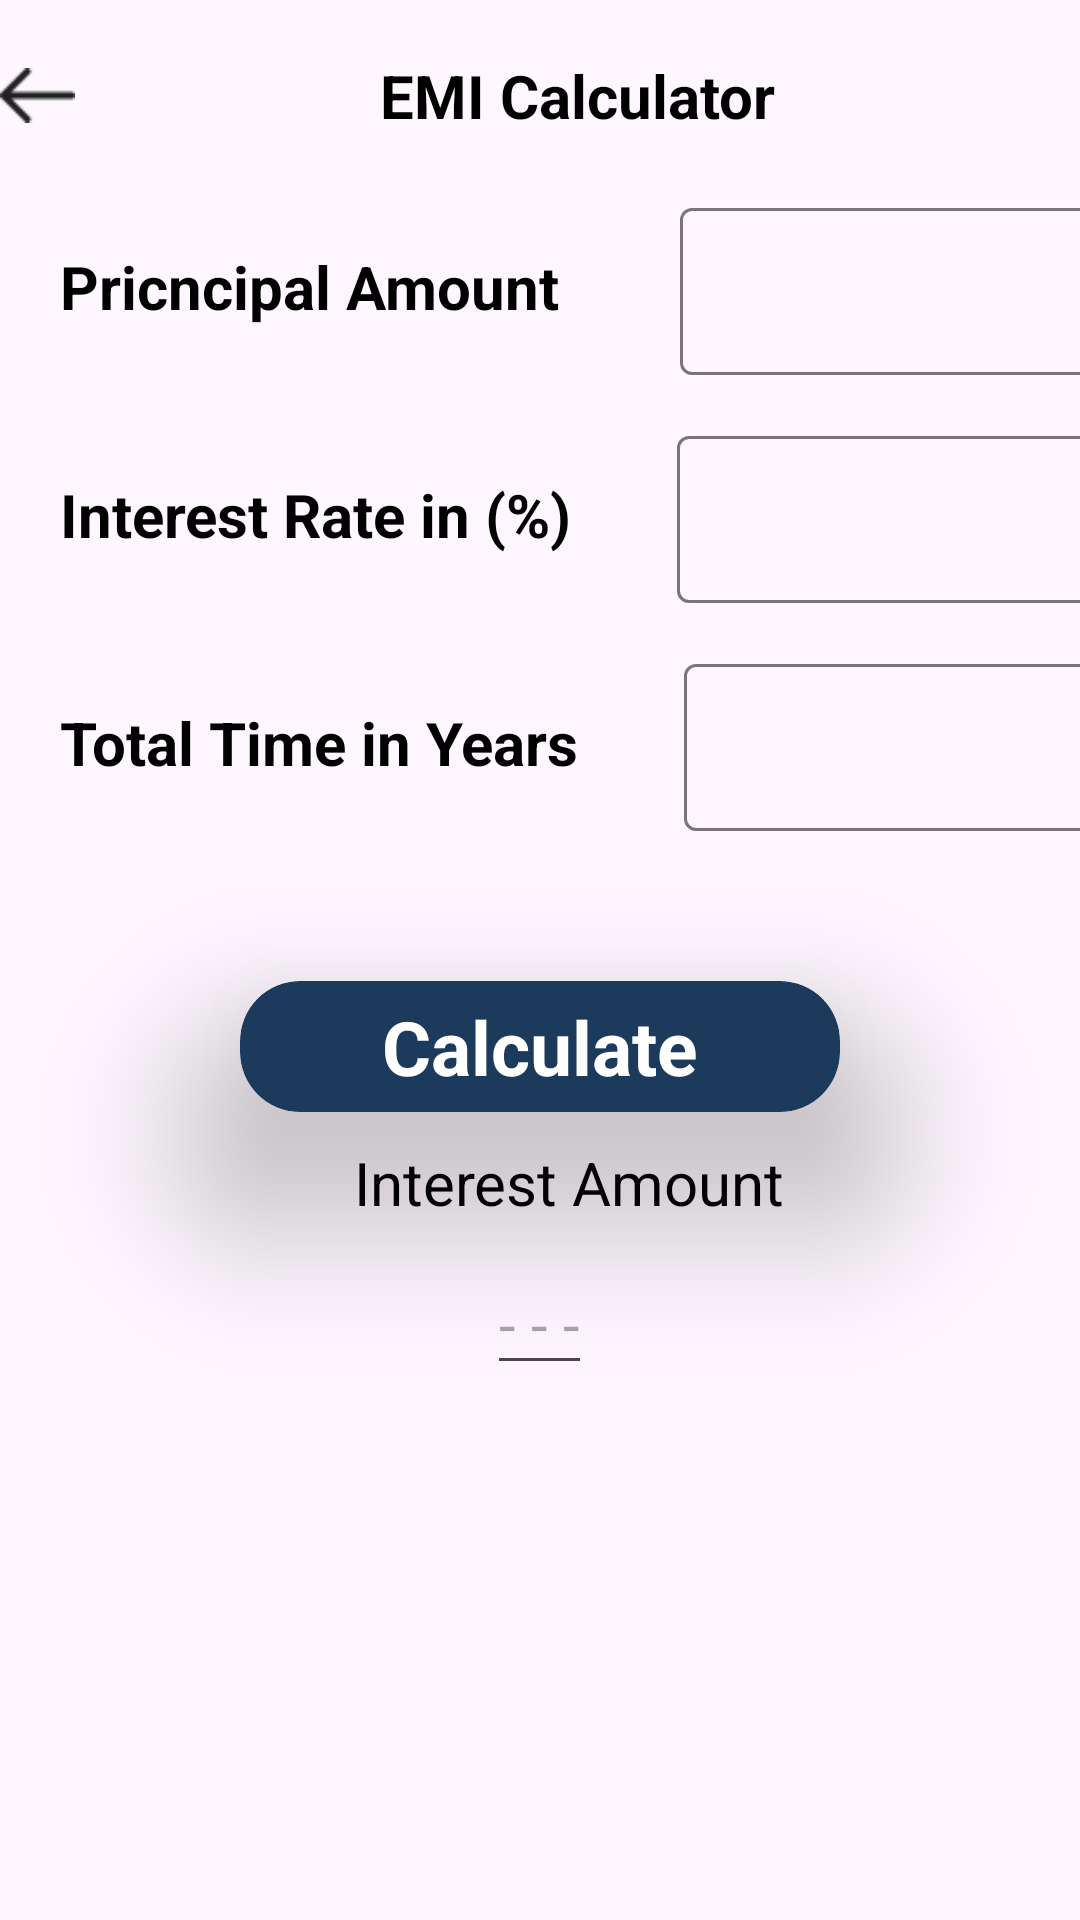

Icon click points for this 1080 × 1920 phone screenshot, format (x=x, y=y):
backarro: (x=37, y=95)
